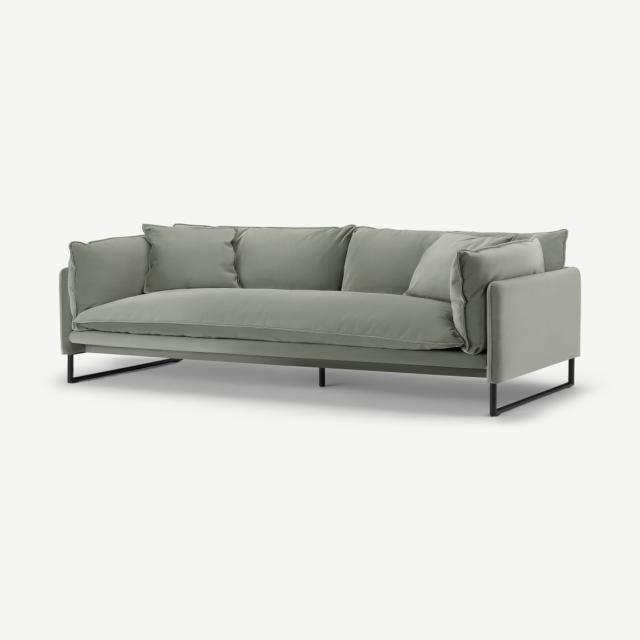Soffa: (45, 211, 588, 415)
